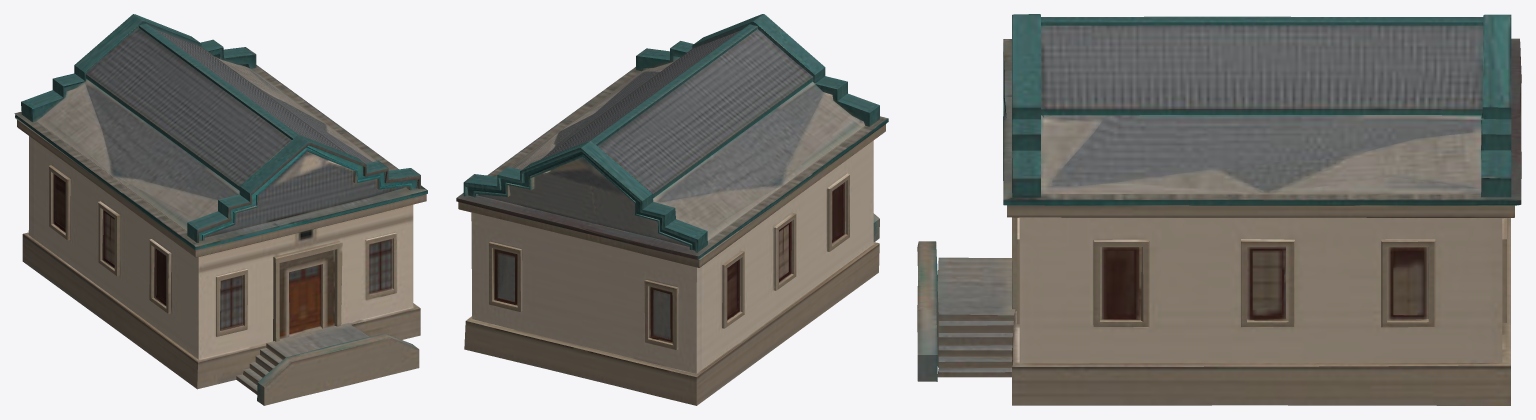
File: city-forum-map.glb
3 renders of one model, left to right at view 1: azimuth 30°, elevation 25°; view 2: azimuth 150°, elevation 25°; view 3: azimuth 270°, elevation 25°, orthographic. The views are drawn at different scales.
Size of the model in its own units: 0.6079 by 0.5508 by 0.9609.
1 material, 1 textured.
